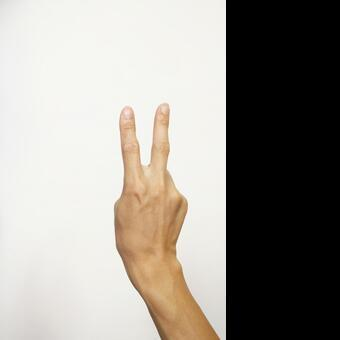tyoki: (113, 102, 188, 258)
